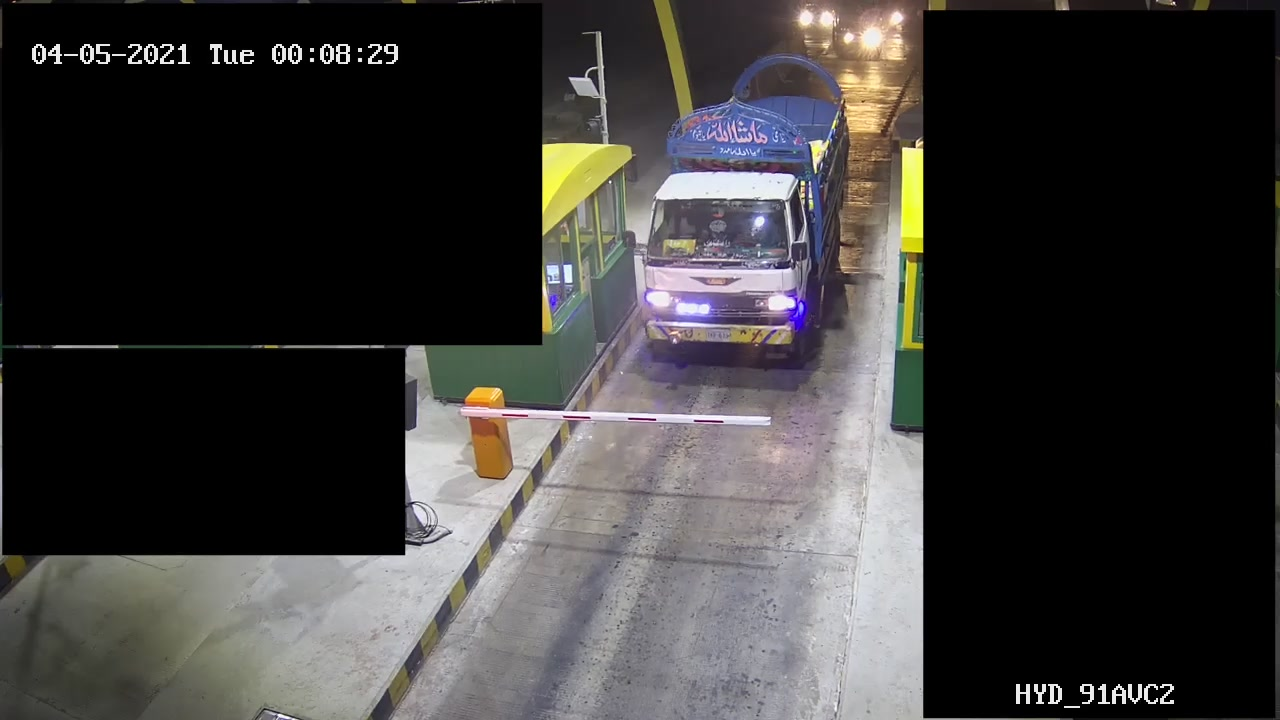F5: (643, 53, 845, 369)
